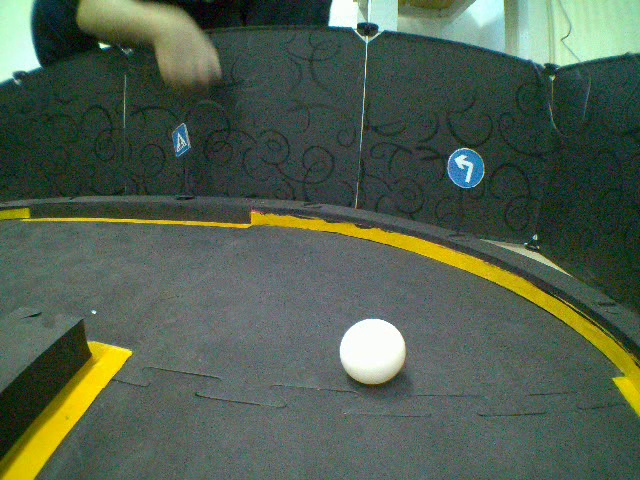ball: (338, 316, 407, 389)
